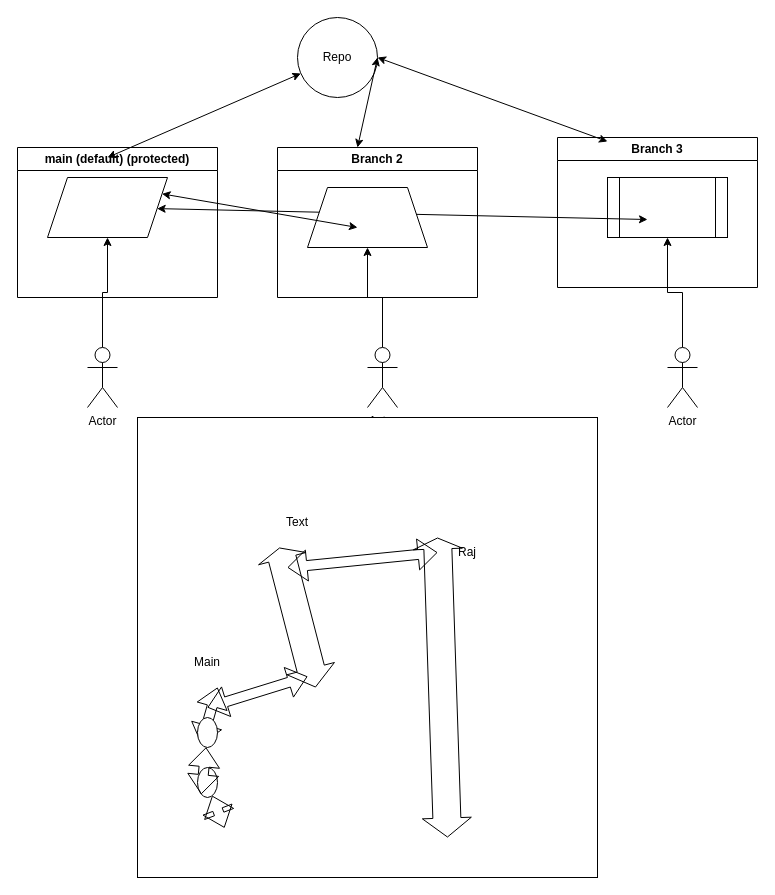
Some shapes in this 775 by 895 pixel diagram are drawn without their labels. The centre of each missing label's shape, as x and y in pixels:
File 2: the point at 367,217
File 3: the point at 667,207
Files bunch: the point at 107,207
